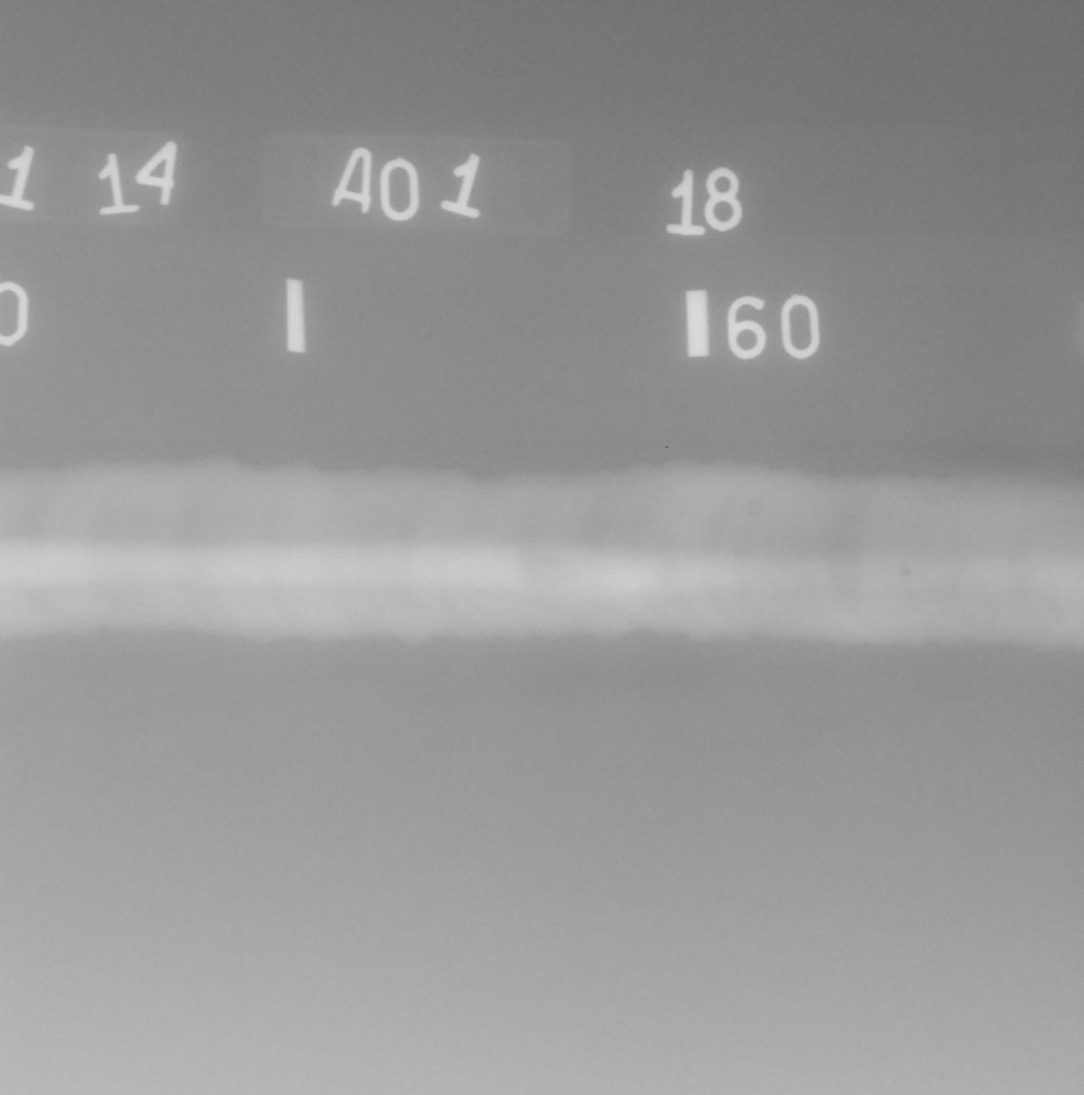Pore/Porosity: (746, 499, 762, 516), (899, 567, 909, 578)
